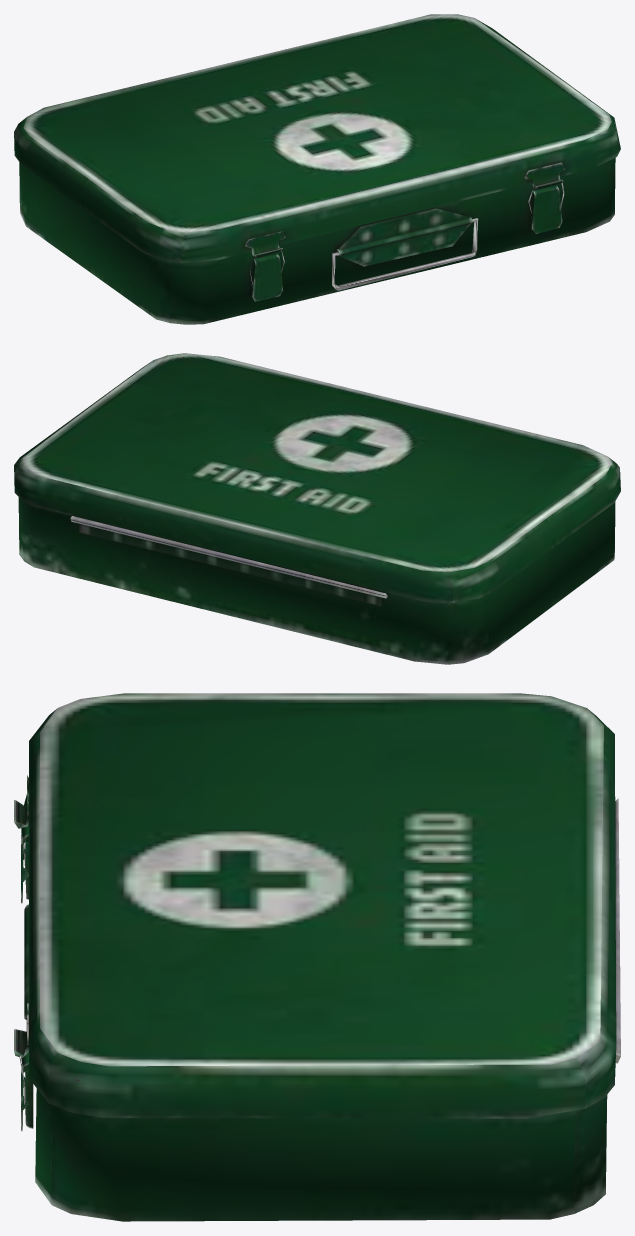
The model's file is medical_box.glb.
The picture shows the model from 3 angles, top to bottom: view 1: azimuth 30°, elevation 25°; view 2: azimuth 150°, elevation 25°; view 3: azimuth 270°, elevation 25°; orthographic projection. The views are drawn at different scales.
Parts seen in each view (by area): view 1: medical_box_latch; view 2: medical_box_latch; view 3: medical_box_latch.
Boxes of the visible parts, x1,y1,x2,y2 form: medical_box_latch: (14, 14, 620, 324); medical_box_latch: (14, 353, 620, 664); medical_box_latch: (14, 693, 620, 1221).
Bounding box in the file's own units: 0.5255 × 0.0967 × 0.3497.
1 material, 1 textured.
